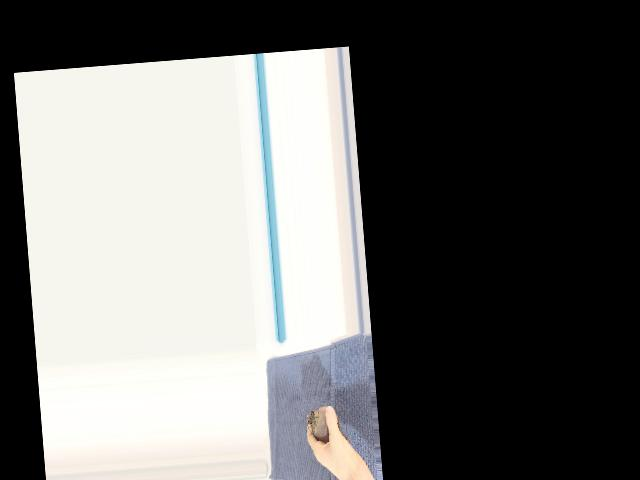beet: (306, 403, 352, 443)
